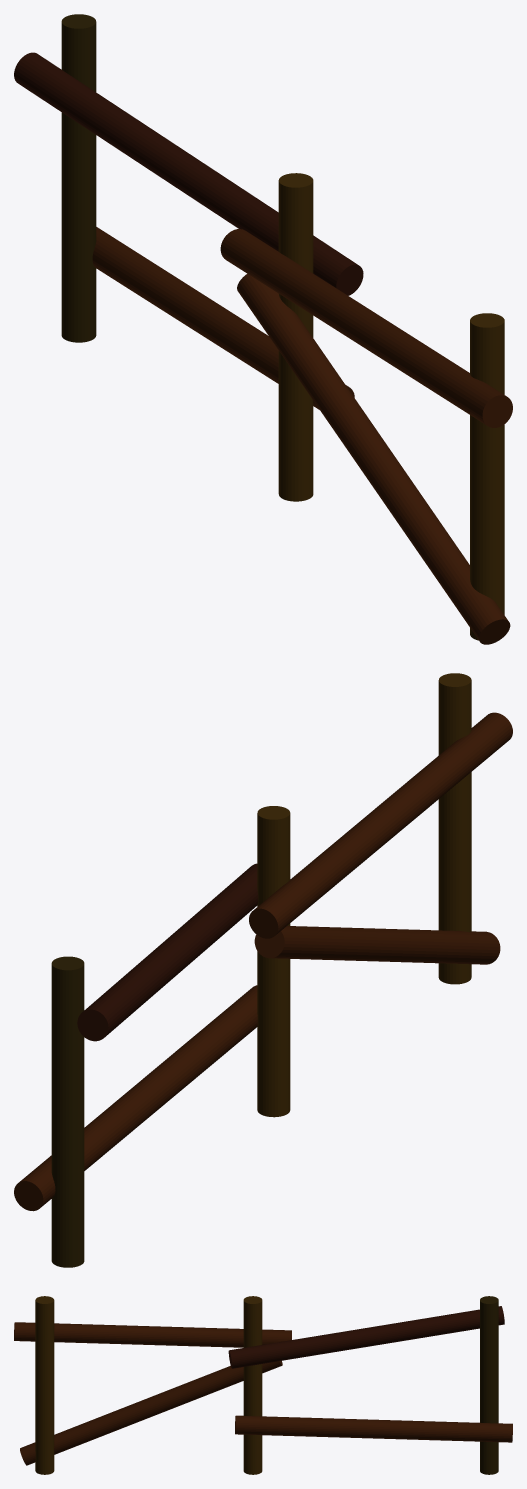
Rendered from fence.2.fbx.
3 views of the same model, one above another, from view 1: azimuth 30°, elevation 25°; view 2: azimuth 150°, elevation 25°; view 3: azimuth 270°, elevation 25° (orthographic). The views are drawn at different scales.
Parts seen in each view (by area): view 1: 円柱.006, 円柱.002, 円柱.005, 円柱.001, 円柱.004, 円柱, 円柱.003; view 2: 円柱.005, 円柱.001, 円柱.003, 円柱, 円柱.004, 円柱.002, 円柱.006; view 3: 円柱.003, 円柱.002, 円柱.005, 円柱.006, 円柱.004, 円柱.001, 円柱.
Part boxes in pixels (bbox=[...]): 円柱.006: bbox=[237, 274, 510, 644]; 円柱.002: bbox=[14, 52, 363, 295]; 円柱.005: bbox=[220, 229, 512, 427]; 円柱.001: bbox=[61, 14, 96, 342]; 円柱.004: bbox=[470, 313, 504, 640]; 円柱: bbox=[278, 173, 313, 501]; 円柱.003: bbox=[92, 227, 354, 409]; 円柱.005: bbox=[249, 712, 512, 938]; 円柱.001: bbox=[51, 956, 84, 1267]; 円柱.003: bbox=[14, 985, 257, 1211]; 円柱: bbox=[257, 806, 290, 1117]; 円柱.004: bbox=[438, 673, 471, 984]; 円柱.002: bbox=[77, 863, 258, 1041]; 円柱.006: bbox=[254, 926, 500, 964]; 円柱.003: bbox=[235, 1415, 512, 1442]; 円柱.002: bbox=[228, 1306, 504, 1368]; 円柱.005: bbox=[14, 1322, 291, 1347]; 円柱.006: bbox=[20, 1361, 282, 1465]; 円柱.004: bbox=[35, 1296, 54, 1474]; 円柱.001: bbox=[480, 1296, 498, 1474]; 円柱: bbox=[243, 1296, 262, 1474].
Bounding box in the file's own units: 204 × 600 × 1589.
